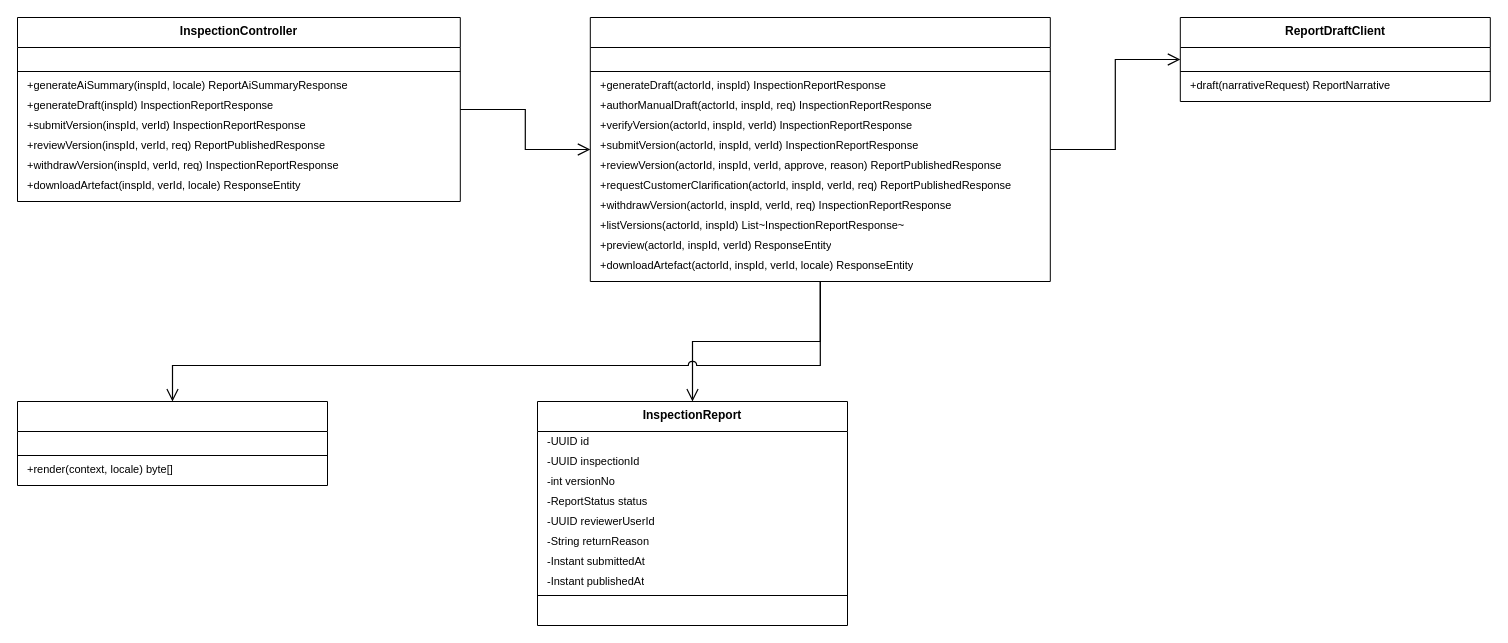
The diagram is 1508 pixels wide and 643 high, and some of its shapes have lost their labels. The shapes that lost their labels are listed below. From the top down, each one's box as (x1, y1, x2, y2) in pixels, then its label:
(589, 16, 1050, 282): ReportService
(16, 400, 328, 486): PdfReportRenderer
